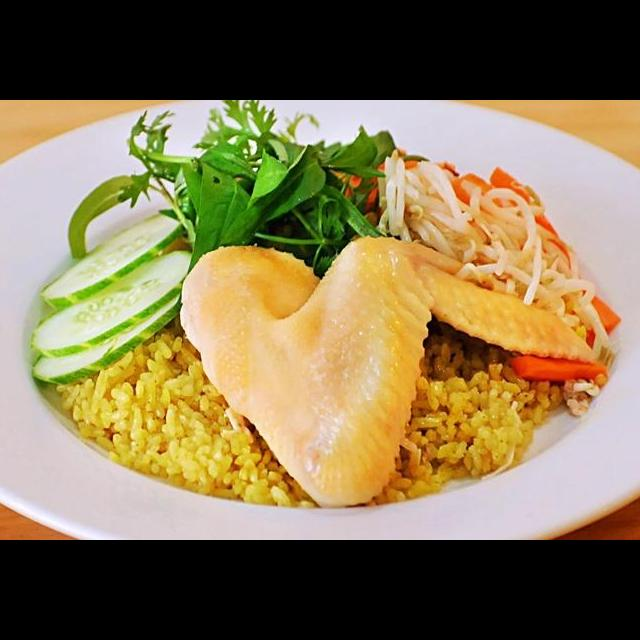com: (52, 326, 321, 511), (360, 314, 566, 508)
com ga: (55, 145, 640, 540)
rau ram: (138, 120, 432, 282), (62, 169, 167, 262)
thit ga: (176, 232, 600, 513)
